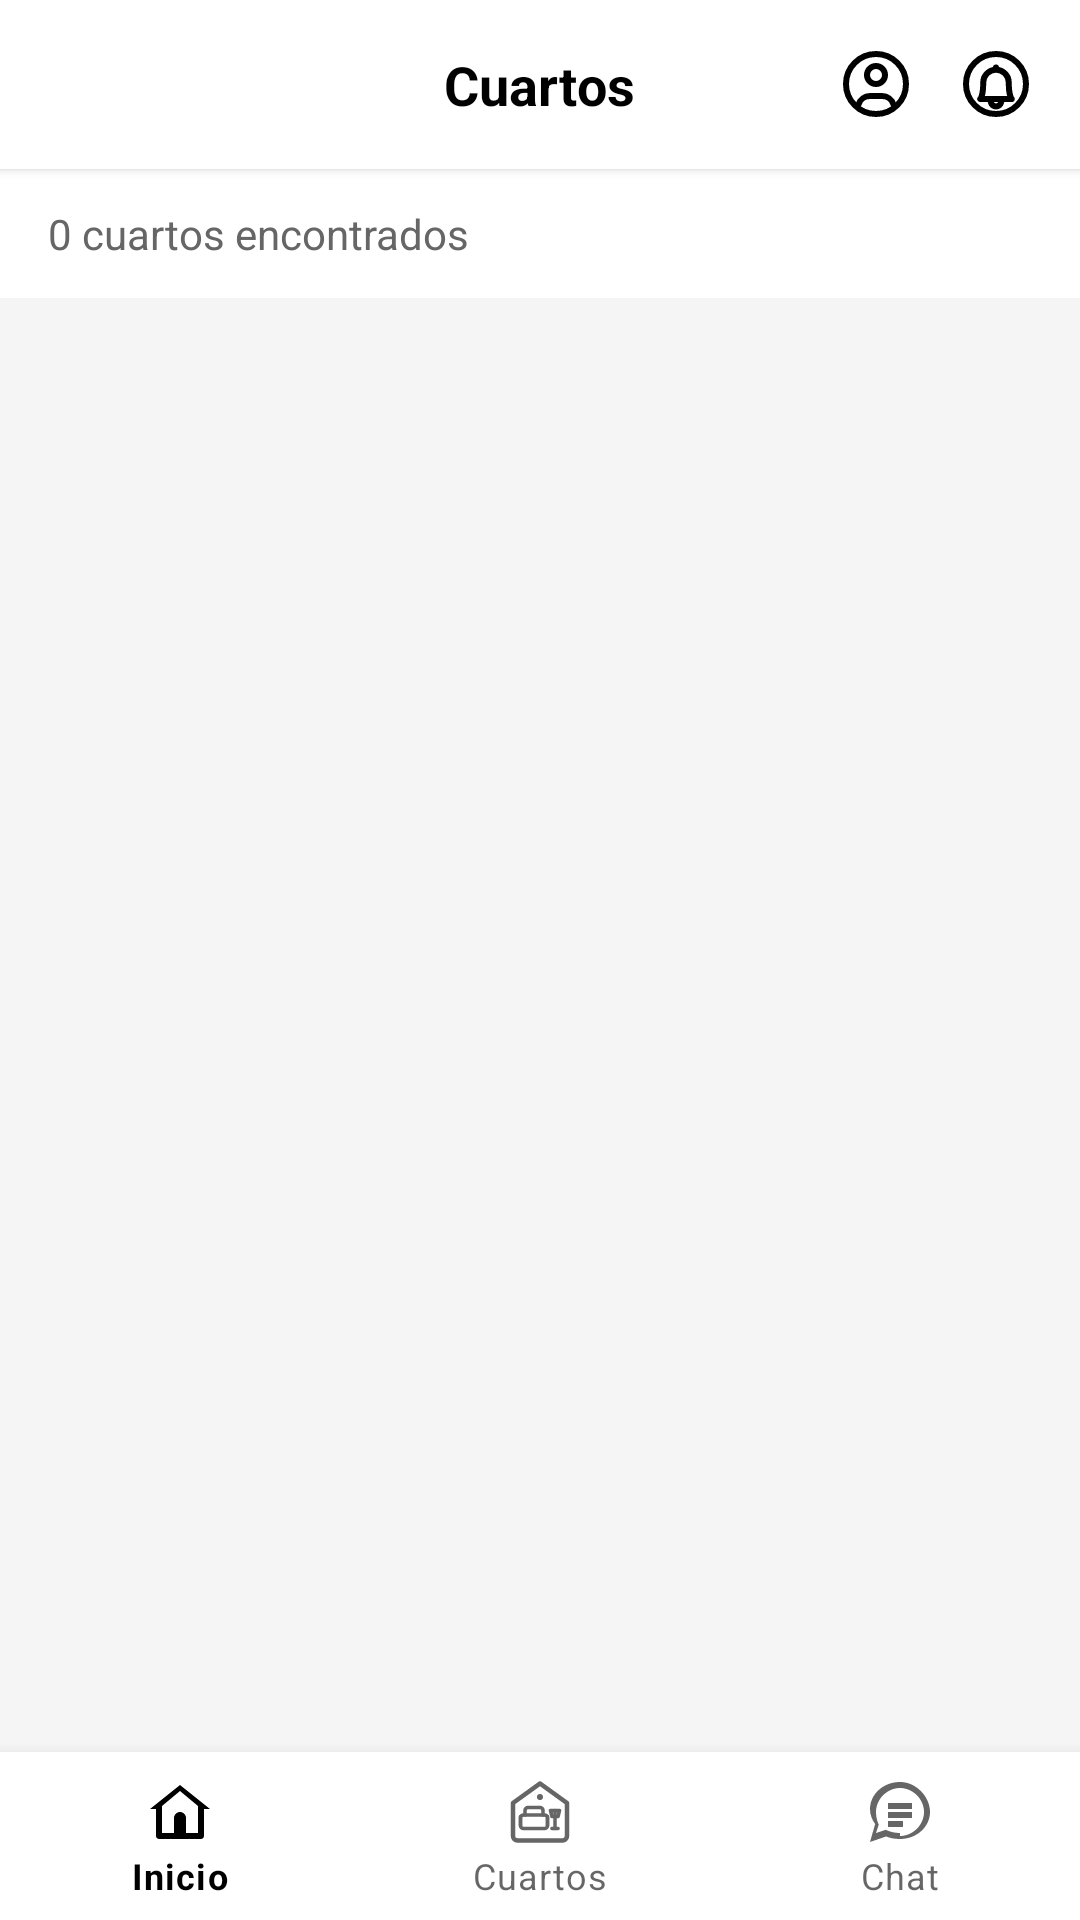

Icons on this 1080×1920 Android screen, each with its box as Rect(x1, y1, x2, y2):
Notificaciones: Rect(963, 51, 1029, 117)
Perfil: Rect(843, 51, 909, 117)
